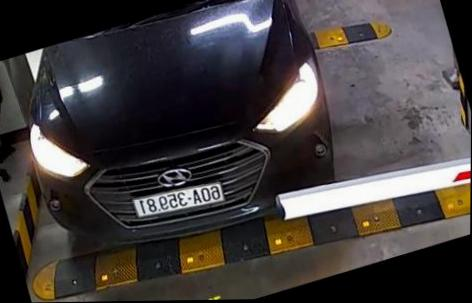License_Plate: (130, 182, 233, 226)
